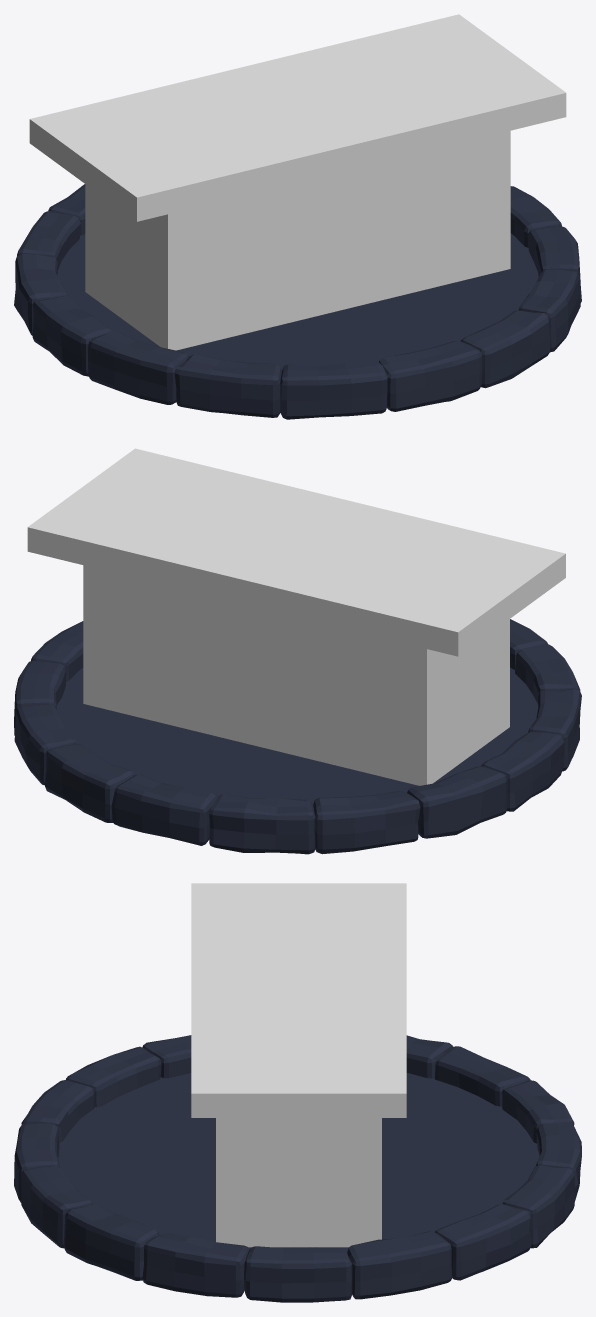
The model's file is VisualModel.fbx.
3 views of the same model, one above another, from view 1: azimuth 30°, elevation 25°; view 2: azimuth 150°, elevation 25°; view 3: azimuth 270°, elevation 25° (orthographic).
Parts seen in each view (by area): view 1: Cube.002, Cube.001, Cube, Circle; view 2: Cube.002, Cube.001, Cube, Circle; view 3: Cube.002, Cube, Circle, Cube.001.
Part boxes in pixels (bbox=[...]): Cube.002: bbox=[29, 14, 566, 221]; Cube.001: bbox=[85, 131, 510, 350]; Cube: bbox=[14, 184, 581, 419]; Circle: bbox=[57, 233, 538, 369]; Cube.002: bbox=[27, 448, 565, 656]; Cube.001: bbox=[83, 565, 509, 785]; Cube: bbox=[14, 619, 581, 854]; Circle: bbox=[56, 667, 538, 804]; Cube.002: bbox=[191, 883, 406, 1117]; Cube: bbox=[14, 1035, 581, 1302]; Circle: bbox=[58, 1073, 539, 1253]; Cube.001: bbox=[216, 1118, 381, 1247].
Bounding box in the file's own units: 216 × 83.62 × 216.
